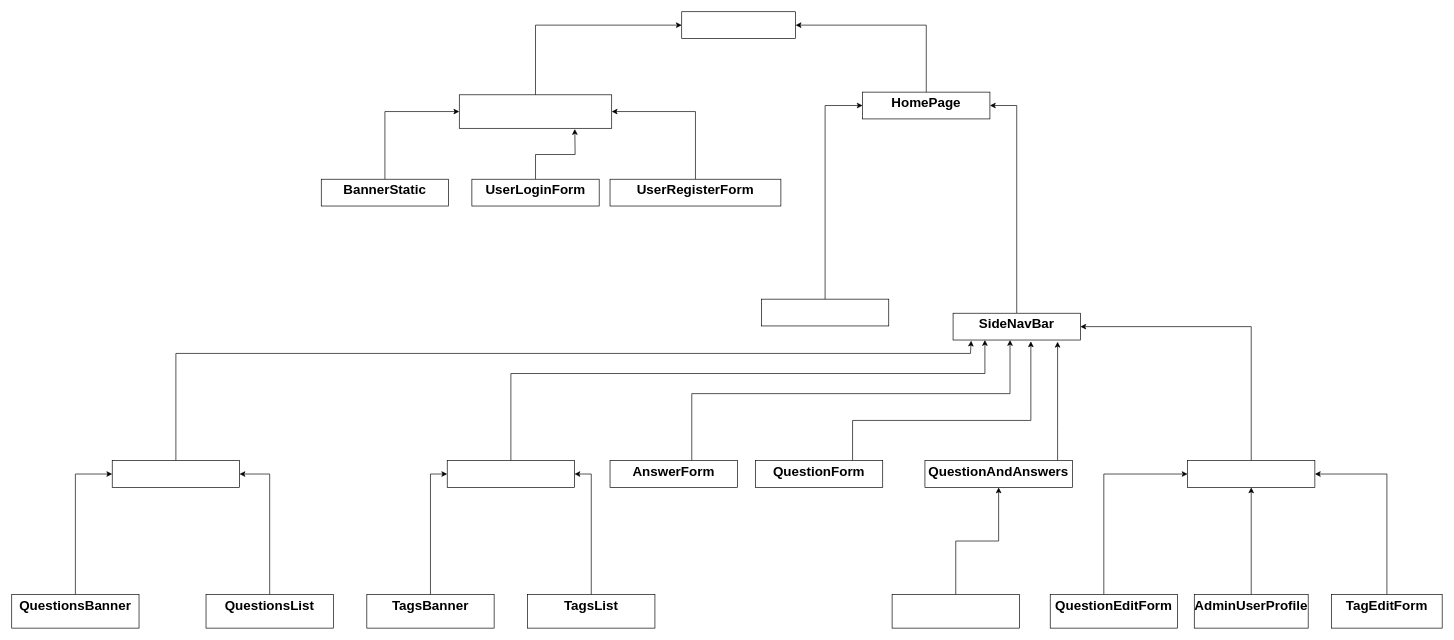
Image size: 1454x640. Some labels were removed from this diagram. Each missing label, with the centre of its shape:
App: the point at 738,25
Banner: the point at 825,312
CommentForm: the point at 955,611
Profile: the point at 1251,473
Questions: the point at 176,473
Tags: the point at 511,473
WelcomePage: the point at 535,111
